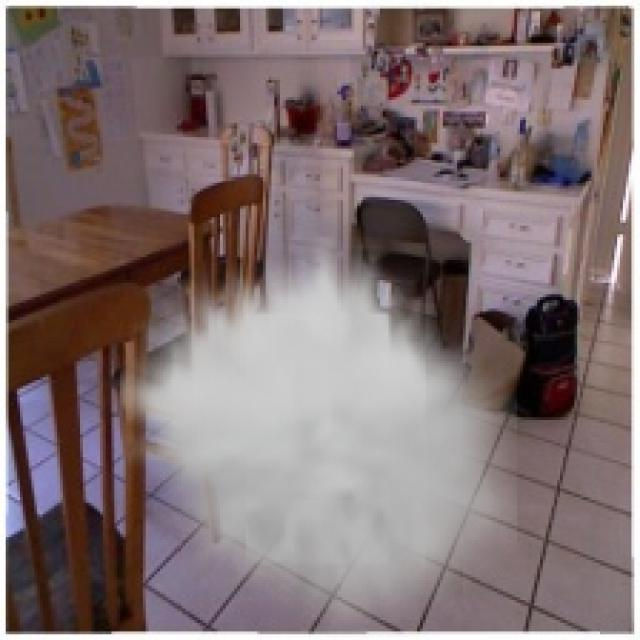smoke: (120, 237, 517, 637)
